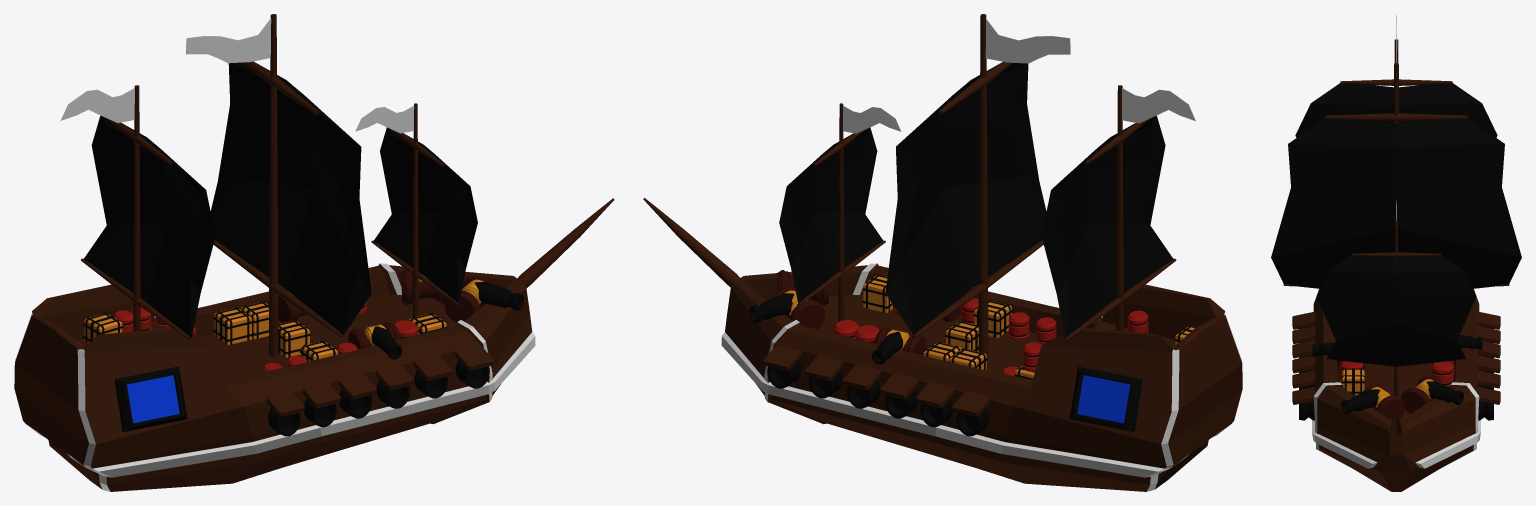
File: Boss_Ship_Hp.obj
The picture shows the model from 3 angles, left to right: view 1: azimuth 30°, elevation 25°; view 2: azimuth 150°, elevation 25°; view 3: azimuth 270°, elevation 25°; orthographic projection. The views are drawn at different scales.
Visible parts, largest first — view 1: corpus, Plane.002, Plane, Plane.004, okno, Balka1.002, Plane.003, Plane.001, Balka1.001, Cylinder.016, box, Balka1.003 (+16 smaller); view 2: corpus, Plane.002, Plane, Plane.004, okno.001, Balka1.002, Plane.003, Plane.001, Balka1.001, Cylinder.016, Balka1.003, Balka2.004 (+14 smaller); view 3: Plane.002, corpus, Plane.004, Plane, Balka2.003, ForGun.016, ForGun.018, Cylinder.027, Cylinder.028, box.006, Balka2.001, Cylinder.024 (+14 smaller).
Part boxes in pixels (bbox=[...]): corpus: bbox=[14, 263, 535, 491]; Plane.002: bbox=[210, 62, 371, 334]; Plane: bbox=[83, 115, 215, 337]; Plane.004: bbox=[373, 127, 477, 303]; okno: bbox=[114, 366, 187, 431]; Balka1.002: bbox=[268, 14, 278, 356]; Plane.003: bbox=[186, 18, 271, 63]; Plane.001: bbox=[60, 88, 134, 122]; Balka1.001: bbox=[133, 85, 140, 331]; Cylinder.016: bbox=[517, 198, 614, 288]; box: bbox=[213, 307, 252, 344]; Balka1.003: bbox=[412, 103, 418, 317]; corpus: bbox=[721, 263, 1242, 491]; Plane.002: bbox=[885, 62, 1046, 334]; Plane: bbox=[1041, 115, 1173, 337]; Plane.004: bbox=[779, 127, 883, 303]; okno.001: bbox=[1069, 366, 1142, 431]; Balka1.002: bbox=[978, 14, 988, 356]; Plane.003: bbox=[985, 18, 1070, 63]; Plane.001: bbox=[1122, 88, 1195, 123]; Balka1.001: bbox=[1116, 85, 1123, 331]; Cylinder.016: bbox=[643, 198, 739, 287]; Balka1.003: bbox=[838, 103, 844, 321]; Balka2.004: bbox=[912, 240, 1043, 338]; Plane.002: bbox=[1271, 118, 1521, 288]; corpus: bbox=[1312, 289, 1480, 491]; Plane.004: bbox=[1316, 255, 1476, 366]; Plane: bbox=[1295, 83, 1497, 137]; Balka2.003: bbox=[1325, 113, 1467, 121]; ForGun.016: bbox=[1362, 384, 1404, 420]; ForGun.018: bbox=[1401, 376, 1442, 413]; Cylinder.027: bbox=[1341, 389, 1380, 414]; Cylinder.028: bbox=[1426, 381, 1463, 405]; box.006: bbox=[1342, 368, 1364, 395]; Balka2.001: bbox=[1340, 79, 1452, 85]; Cylinder.024: bbox=[1431, 361, 1453, 386].
Bounding box in the file's own units: 21.51 × 16.19 × 10.11.
